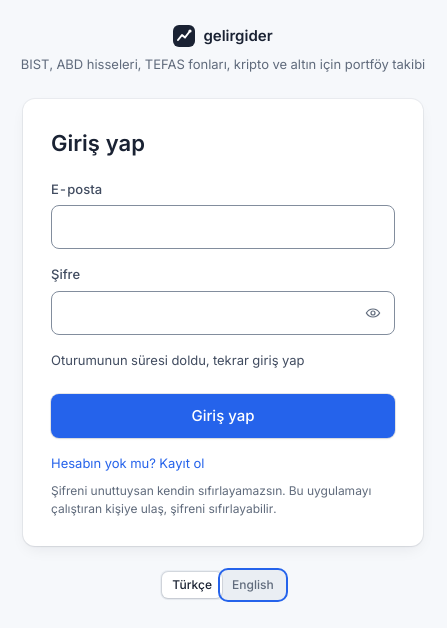
Scenario: App › re-renders the mounted tree in English after the language switch
Check: the button "Giriş yap" is shown, box top-left (51, 394), bottom-right (395, 438)
Click the button "English" at {"x": 253, "y": 584}, box top-left (222, 572), bottom-right (284, 598)
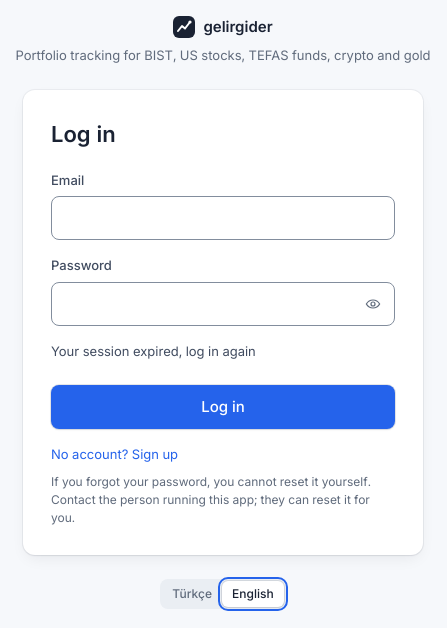
Check: the button "Log in" is shown, box top-left (51, 385), bottom-right (395, 429)
